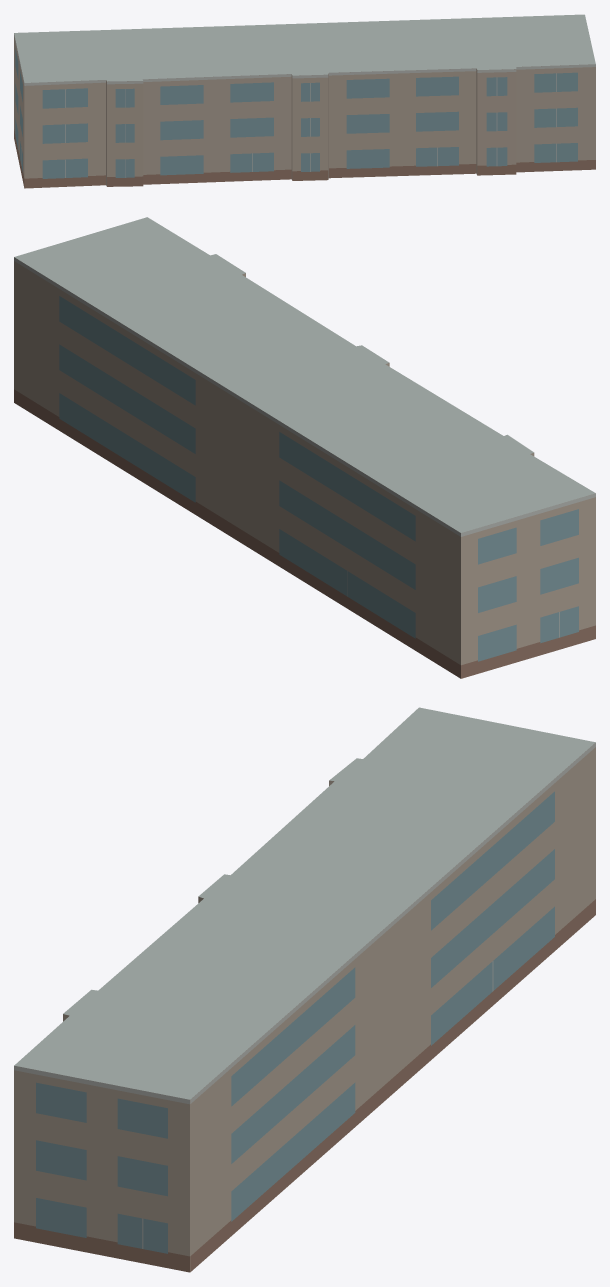
Rendered from survey-upis-32552215.glb.
3 views of the same model, one above another, from view 1: azimuth 30°, elevation 25°; view 2: azimuth 150°, elevation 25°; view 3: azimuth 270°, elevation 25° (orthographic). The views are drawn at different scales.
Parts seen in each view (by area): view 1: survey-upis-32552215.tmp; view 2: survey-upis-32552215.tmp; view 3: survey-upis-32552215.tmp.
Boxes of the visible parts, x1,y1,x2,y2 form: survey-upis-32552215.tmp: [14, 14, 595, 188]; survey-upis-32552215.tmp: [14, 217, 595, 678]; survey-upis-32552215.tmp: [14, 707, 595, 1272].
Size of the model in its own units: 44.59 by 9.15 by 27.94.
